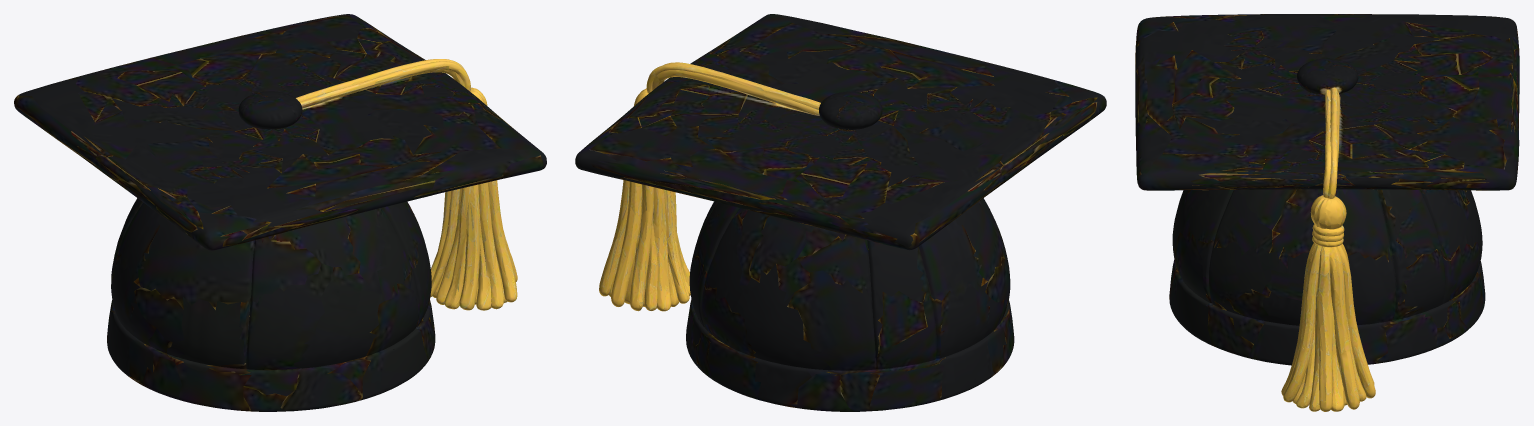
3 views of the same model, side by side, from view 1: azimuth 30°, elevation 25°; view 2: azimuth 150°, elevation 25°; view 3: azimuth 270°, elevation 25° (orthographic). The views are drawn at different scales.
Visible parts, largest first — view 1: output_unwrapped; view 2: output_unwrapped; view 3: output_unwrapped.
Boxes of the visible parts, box(x1,y1,x2,y2) form: output_unwrapped: box(14, 14, 546, 411); output_unwrapped: box(575, 14, 1106, 411); output_unwrapped: box(1135, 14, 1519, 411).
Size of the model in its own units: 1.9 by 1.09 by 1.61.
1 material, 1 textured.
